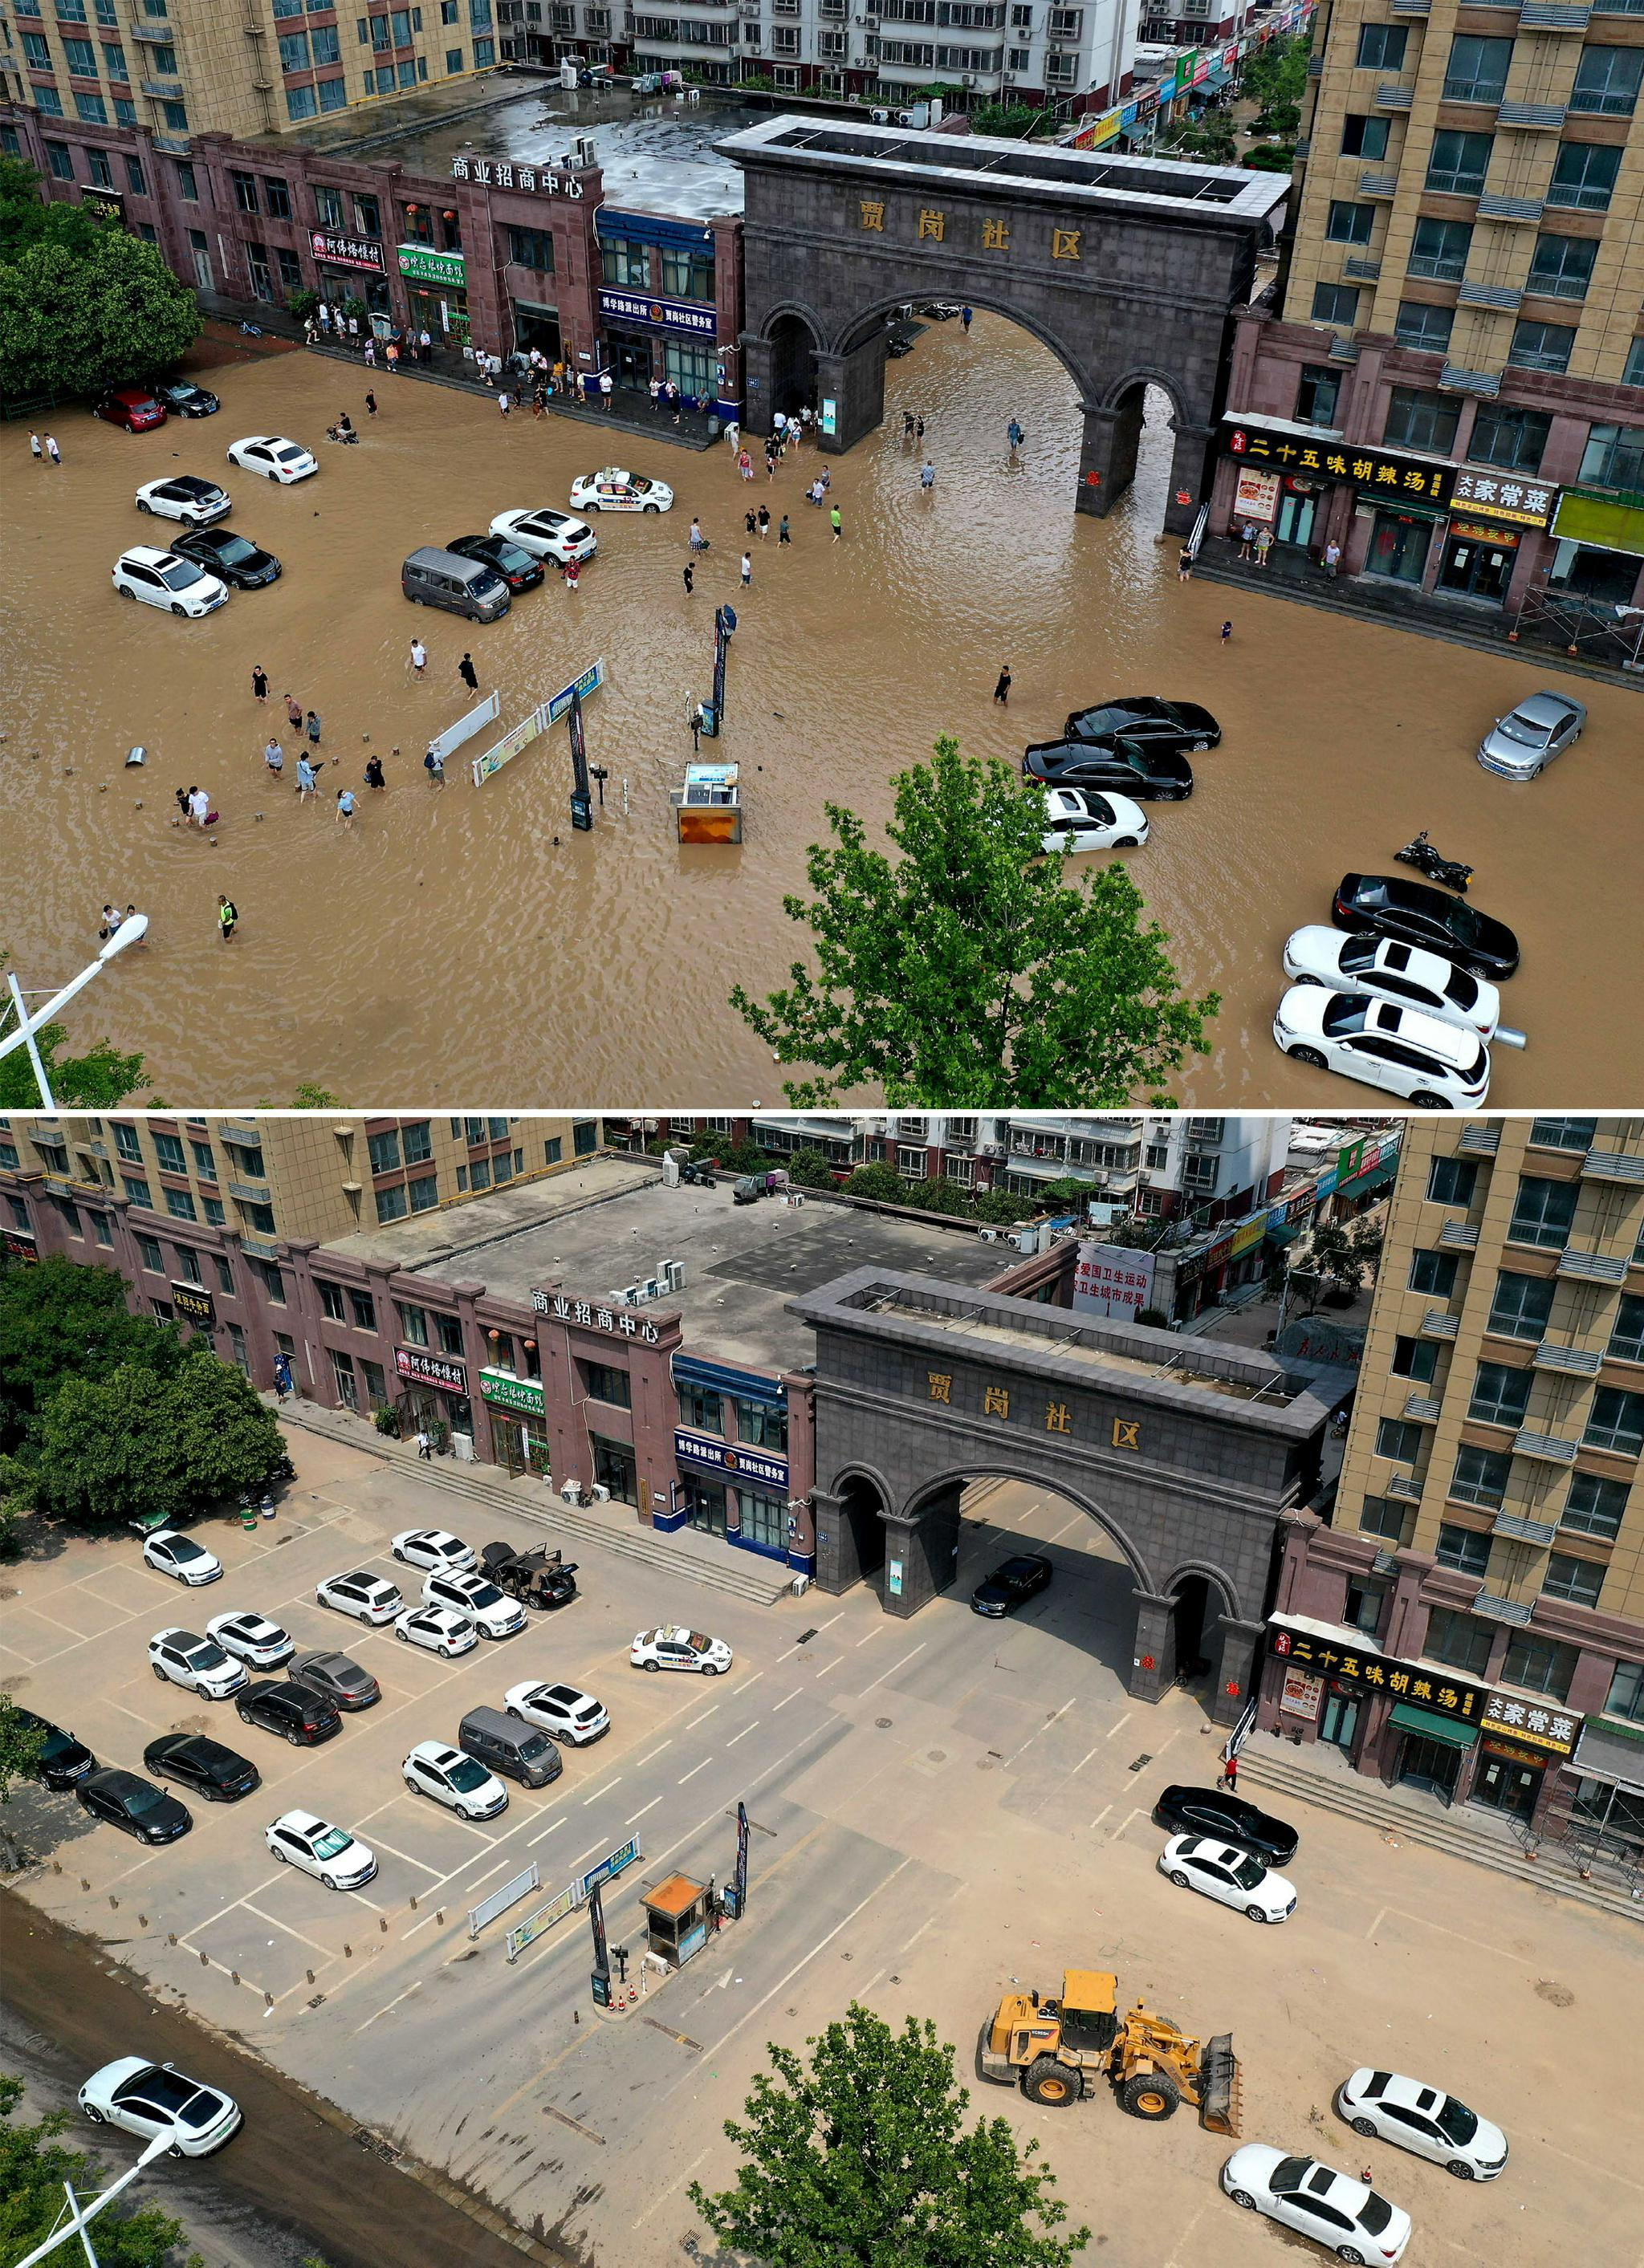puddle: (69, 449, 1593, 1108)
